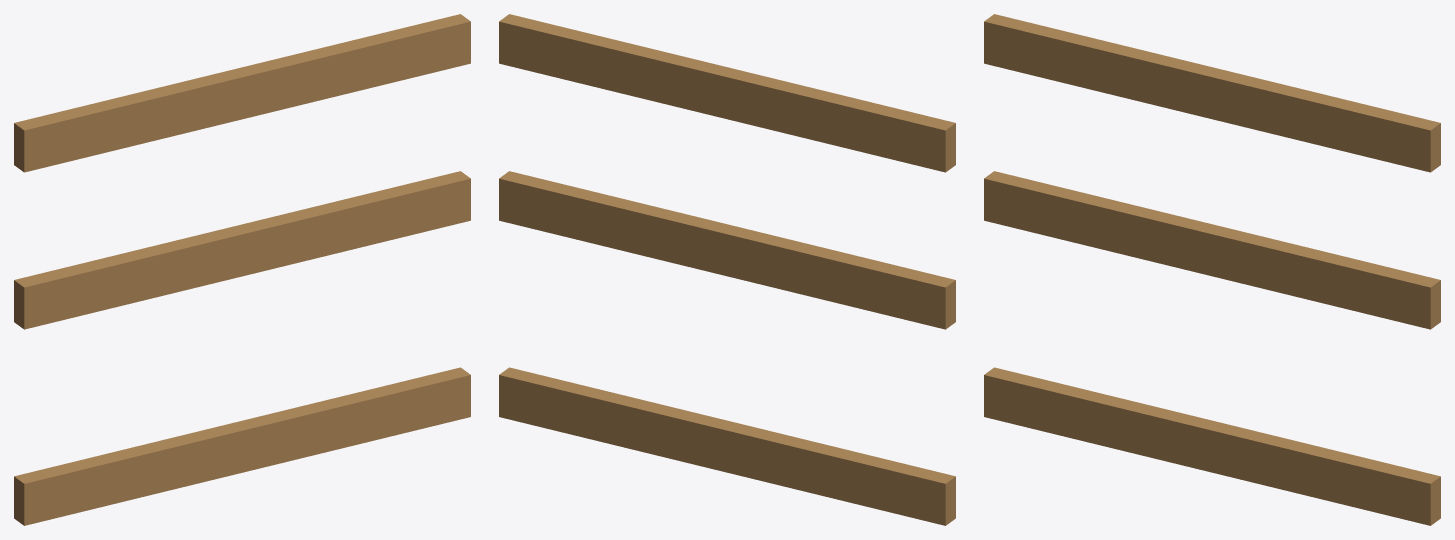
File: boundary.post_rail.h1200.glb
The picture shows the model from 3 angles, left to right: view 1: azimuth 30°, elevation 25°; view 2: azimuth 150°, elevation 25°; view 3: azimuth 330°, elevation 25°; orthographic projection.
Parts seen in each view (by area): view 1: main__softwood; view 2: main__softwood; view 3: main__softwood.
Boxes of the visible parts, x1,y1,x2,y2 form: main__softwood: (14,14,470,525); main__softwood: (499,14,955,525); main__softwood: (984,14,1440,525).
Bounding box in the file's own units: 1 × 0.846 × 0.04.
